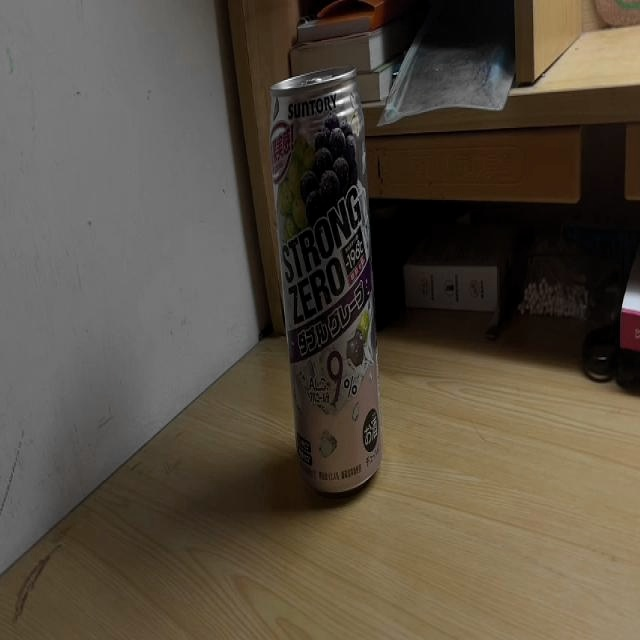Liquor: (269, 67, 382, 500)
